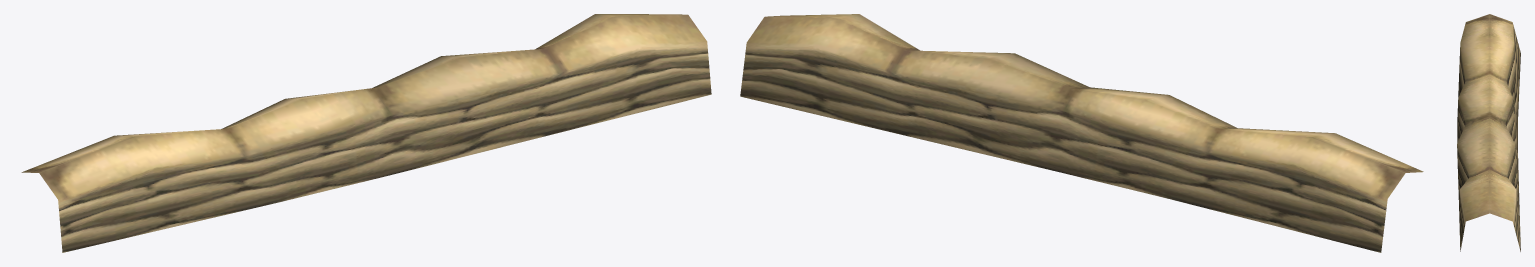
File: SandBags2_Low_Straight.glb
3 views of the same model, side by side, from view 1: azimuth 30°, elevation 25°; view 2: azimuth 150°, elevation 25°; view 3: azimuth 270°, elevation 25° (orthographic). The views are drawn at different scales.
Visible parts, largest first — view 1: SANDBAGS2_LOW_STRAIGHT; view 2: SANDBAGS2_LOW_STRAIGHT; view 3: SANDBAGS2_LOW_STRAIGHT.
Boxes of the visible parts, x1,y1,x2,y2 form: SANDBAGS2_LOW_STRAIGHT: (21,14,711,252); SANDBAGS2_LOW_STRAIGHT: (740,14,1423,252); SANDBAGS2_LOW_STRAIGHT: (1457,14,1520,251).
Bounding box in the file's own units: 4 × 0.462 × 0.542.
Materials: 1 (1 with a texture image).
